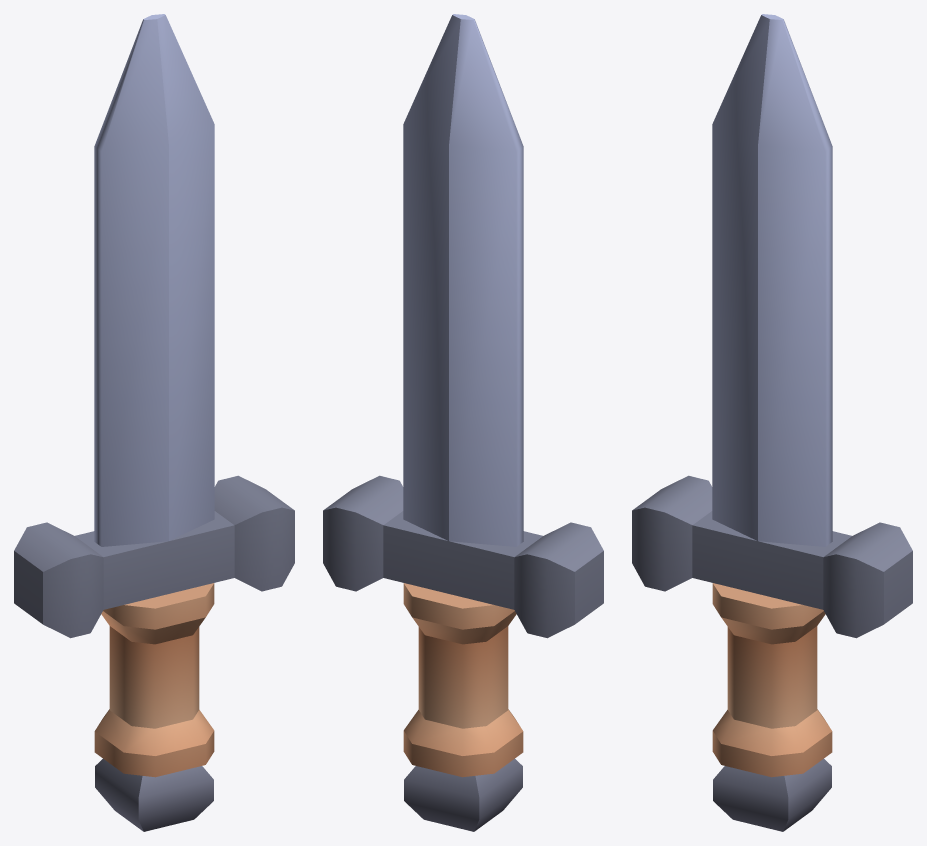
Rendered from sword-a.fbx.
The picture shows the model from 3 angles, left to right: view 1: azimuth 30°, elevation 25°; view 2: azimuth 150°, elevation 25°; view 3: azimuth 330°, elevation 25°; orthographic projection.
Parts seen in each view (by area): view 1: sword-a; view 2: sword-a; view 3: sword-a.
Boxes of the visible parts, x1,y1,x2,y2 form: sword-a: [14, 14, 294, 831]; sword-a: [323, 14, 603, 831]; sword-a: [632, 14, 912, 831].
Size of the model in its own units: 125 by 379 by 45.
Materials: 1 (1 with a texture image).
